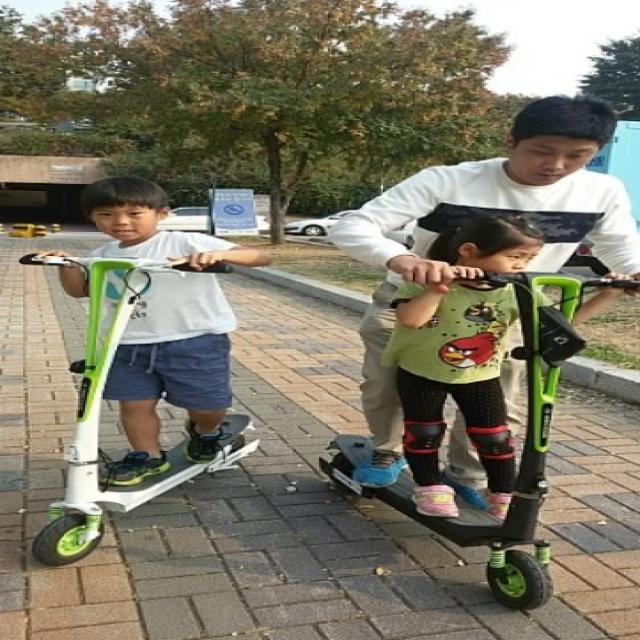non-helmet: (295, 57, 640, 633), (2, 150, 311, 582)
